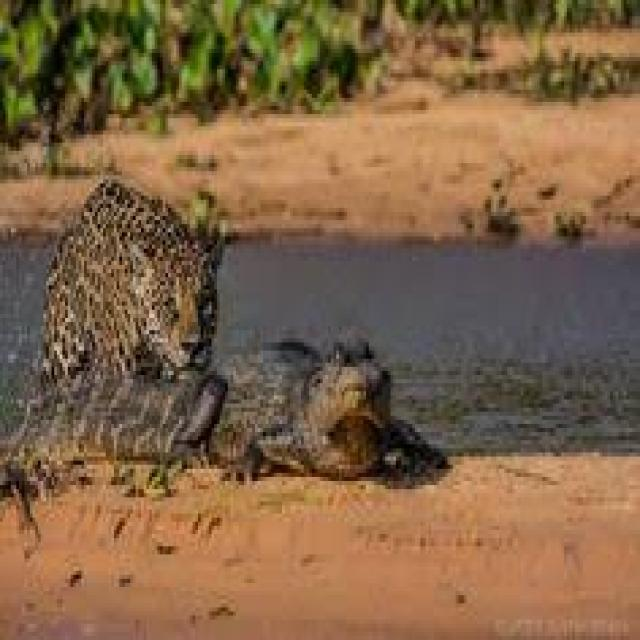Jaguar: (38, 167, 209, 400)
